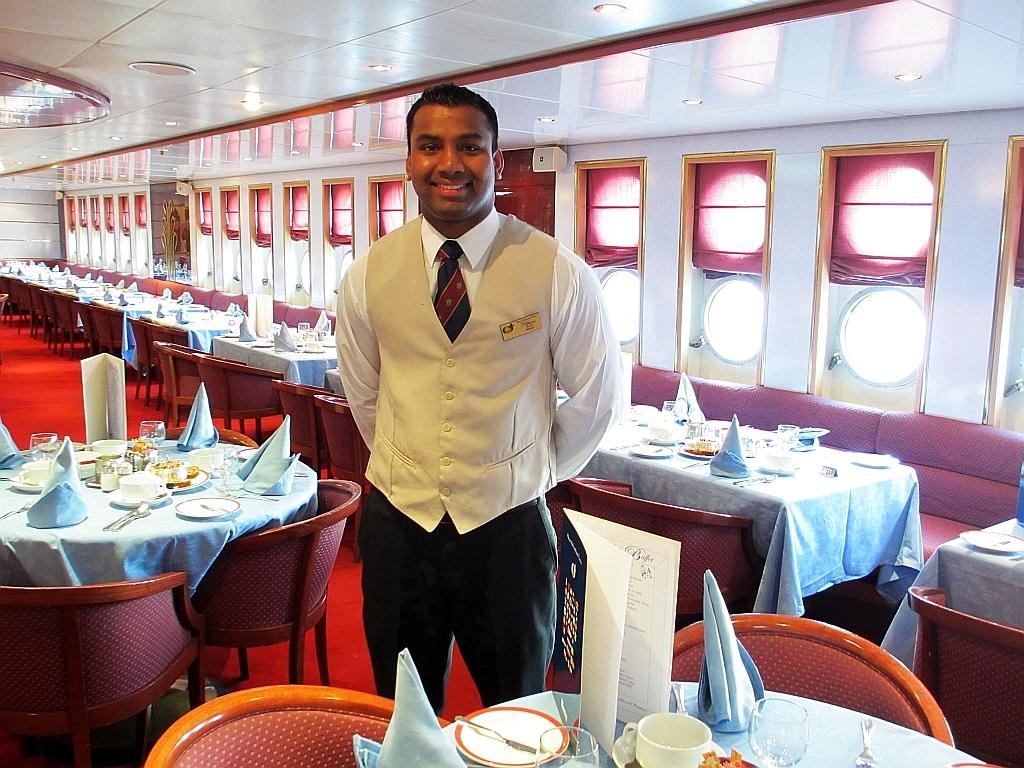face: (408, 100, 496, 212)
